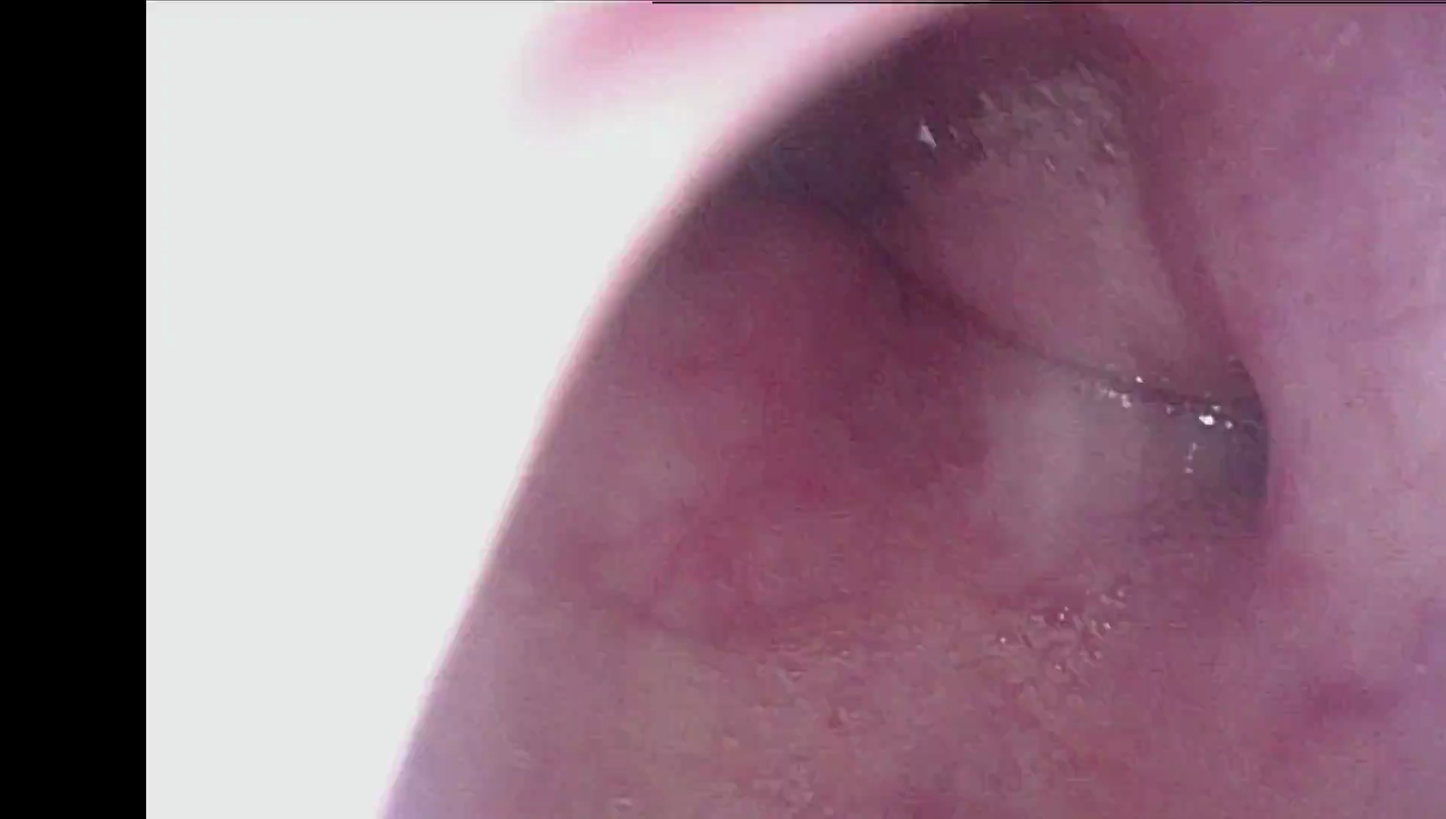close_wall: (154, 0, 959, 814)
next: (734, 74, 922, 285)
